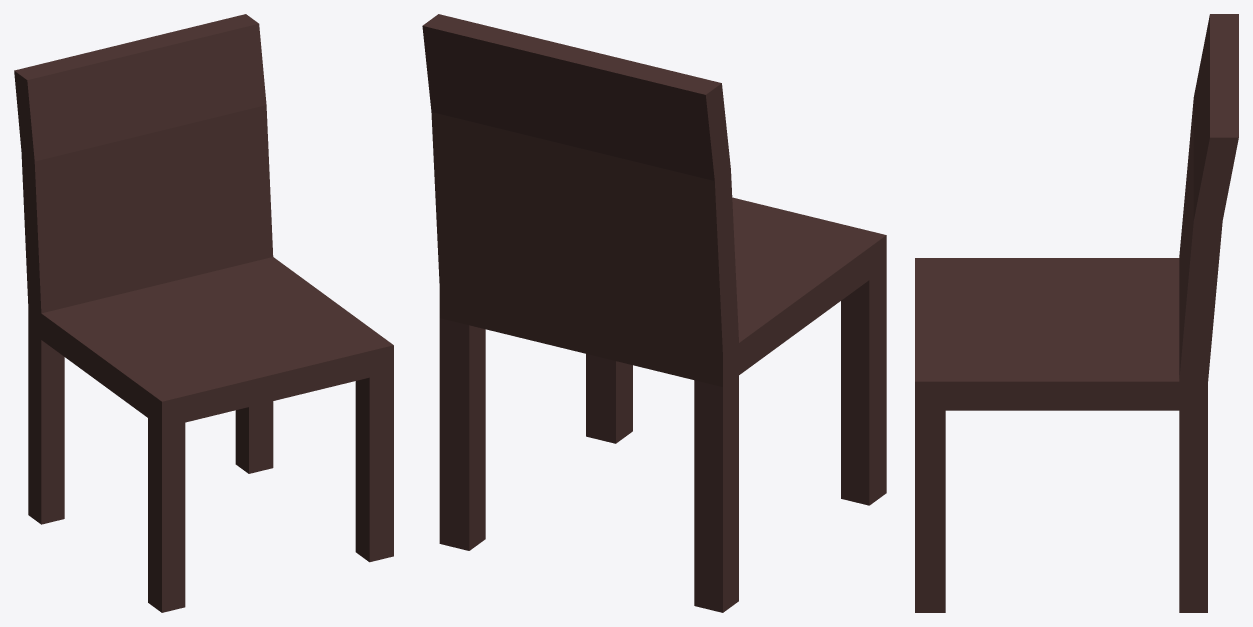
Rendered from chair.fbx.
3 views of the same model, side by side, from view 1: azimuth 30°, elevation 25°; view 2: azimuth 150°, elevation 25°; view 3: azimuth 270°, elevation 25° (orthographic). The views are drawn at different scales.
Visible parts, largest first — view 1: Cube; view 2: Cube; view 3: Cube.
Part boxes in pixels (x1,y1,x2,y2): Cube: (14, 14, 393, 612); Cube: (422, 14, 886, 612); Cube: (915, 14, 1238, 612).
Size of the model in its own units: 200 by 358 by 221.
